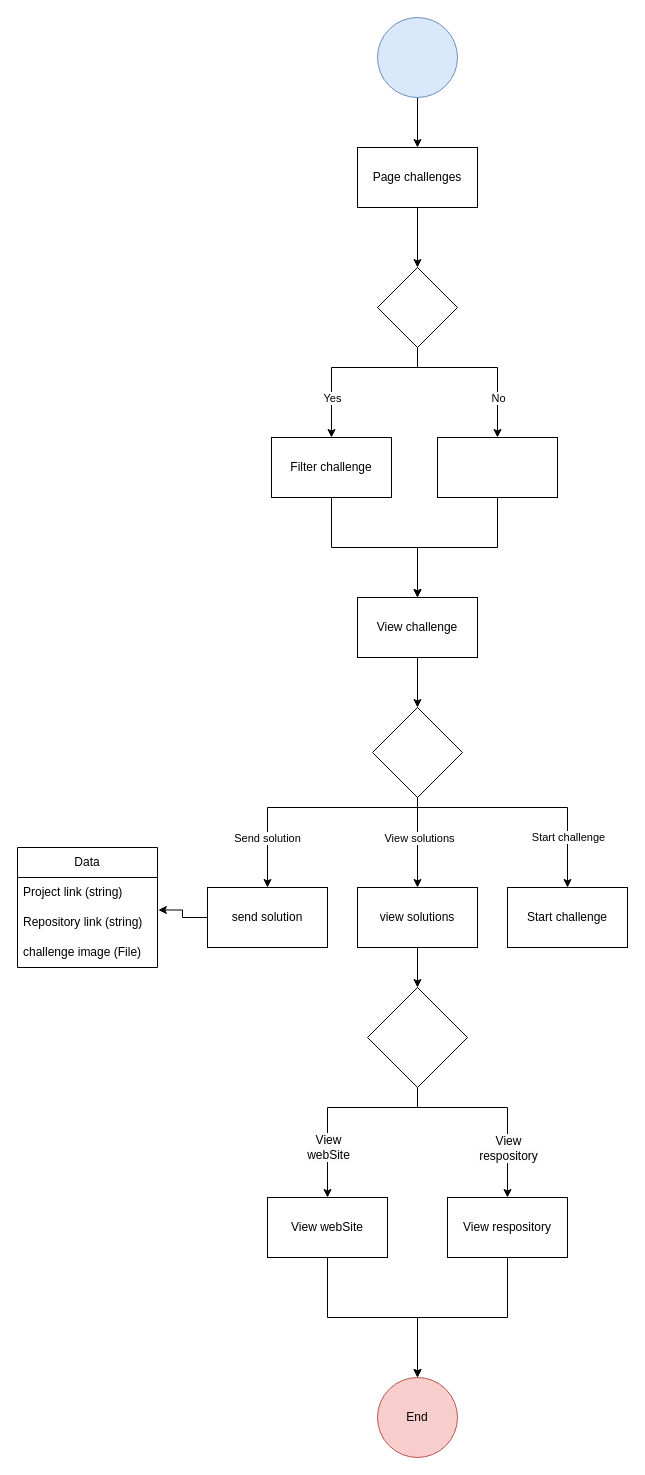
The diagram is 645 pixels wide and 1475 high, and some of its shapes have lost their labels. The centre of each missing label's shape, as x and y in pixels:
"Challenge filter?" belongs at (417,307).
"start" belongs at (417,57).
"start, view or send" belongs at (417,752).
"View recente challenge" belongs at (497,467).
"View webSite, View repository" belongs at (417,1037).
